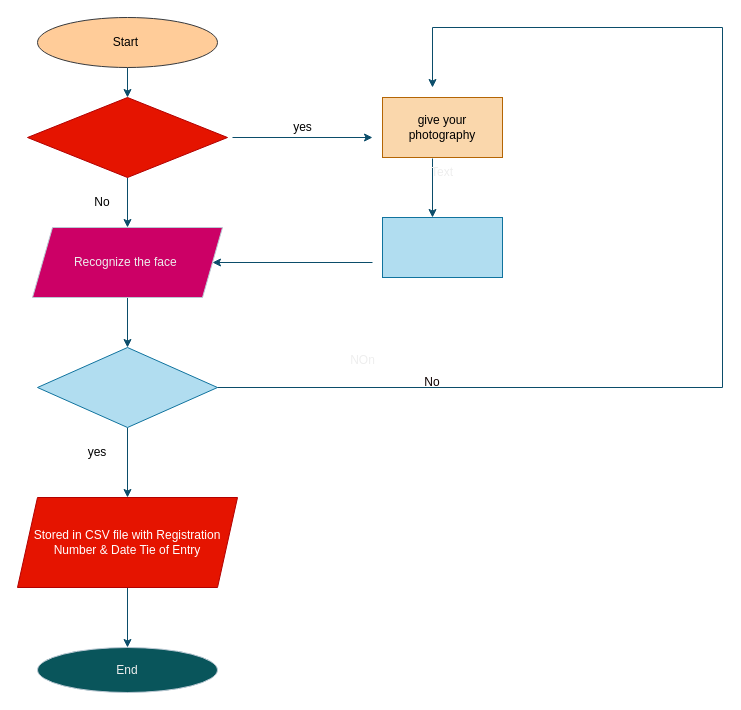
This 741x710 diagram has some shape labels left out. The box of each missing label's shape, as (x1, y1, x2, y2) in pixels:
Face Recognized: (36, 346, 218, 428)
New User?: (26, 96, 228, 178)
Store the face data in folder on your name: (382, 216, 502, 278)
